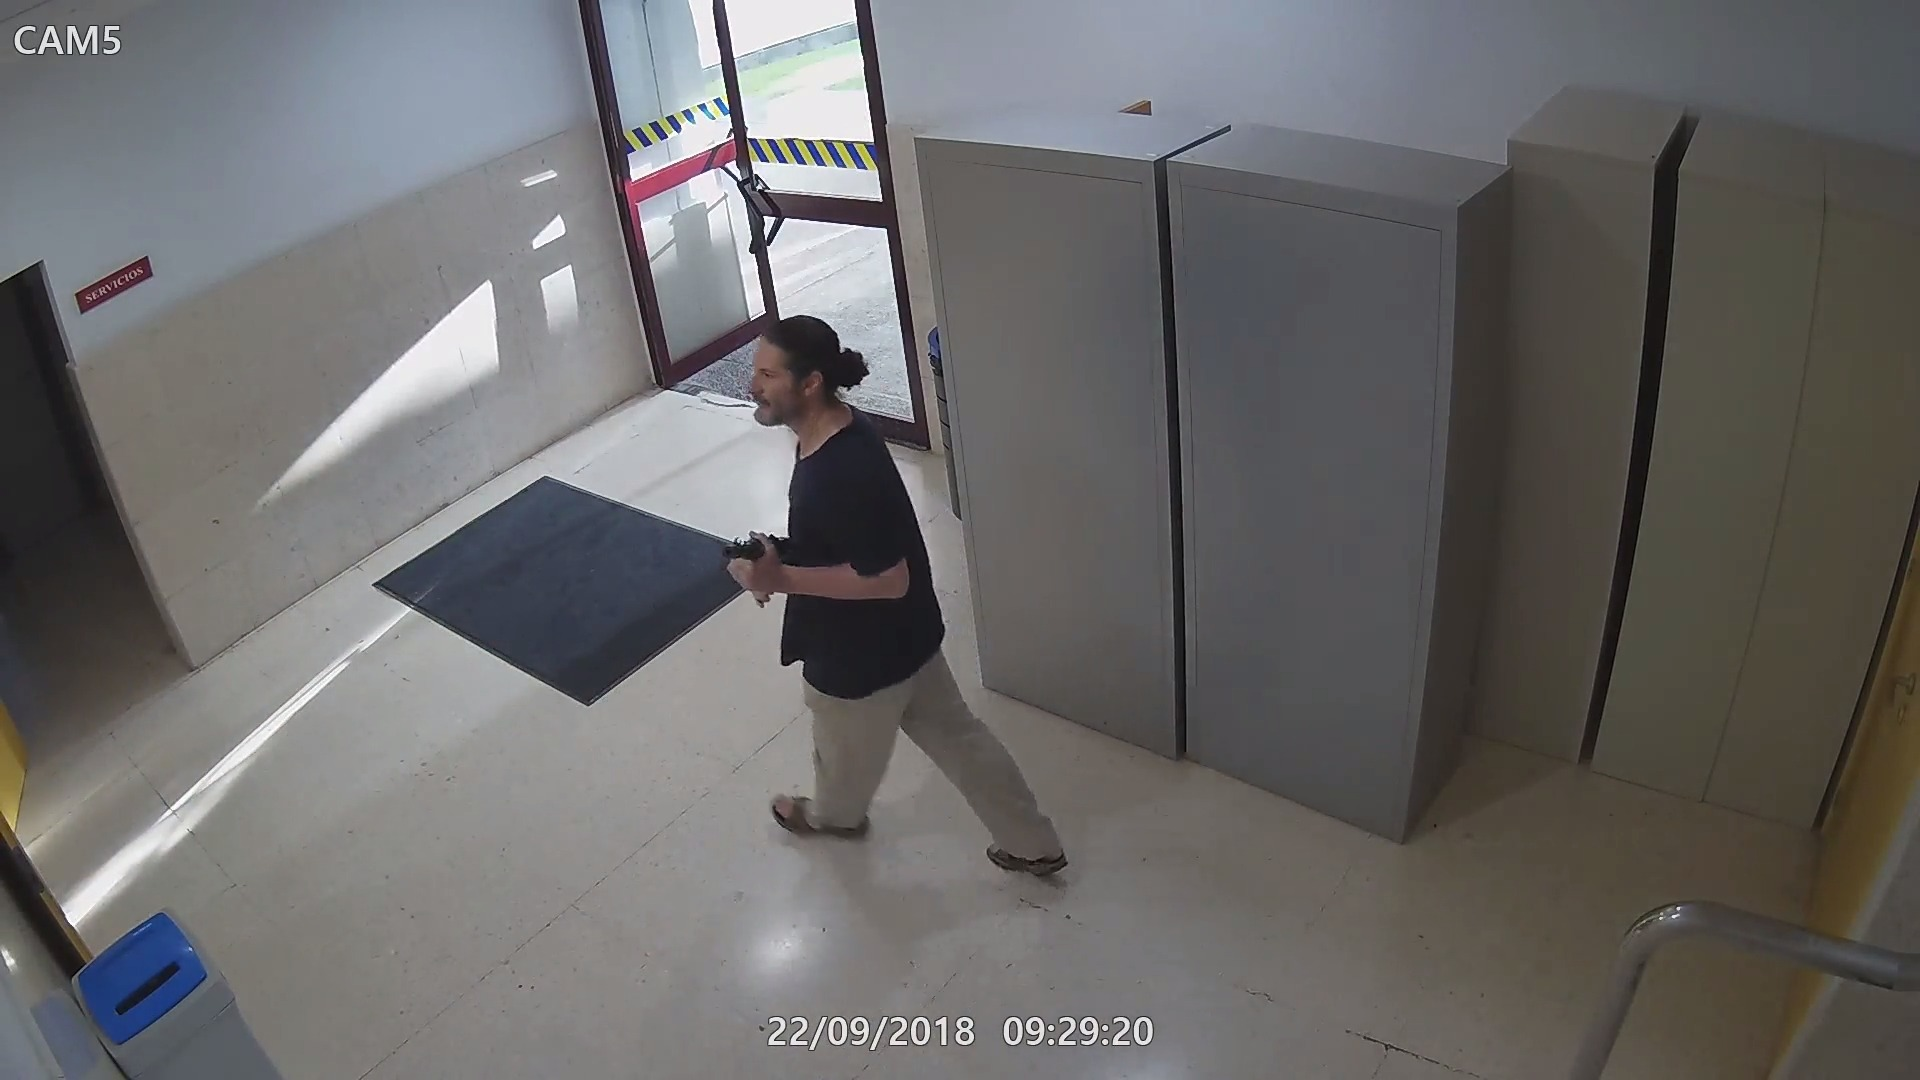Short_rifle: (715, 526, 796, 608)
